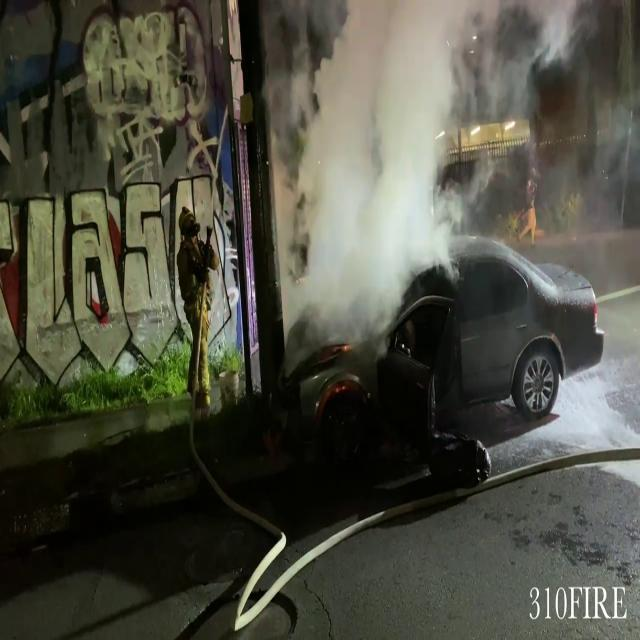Smoke: (278, 0, 640, 319)
